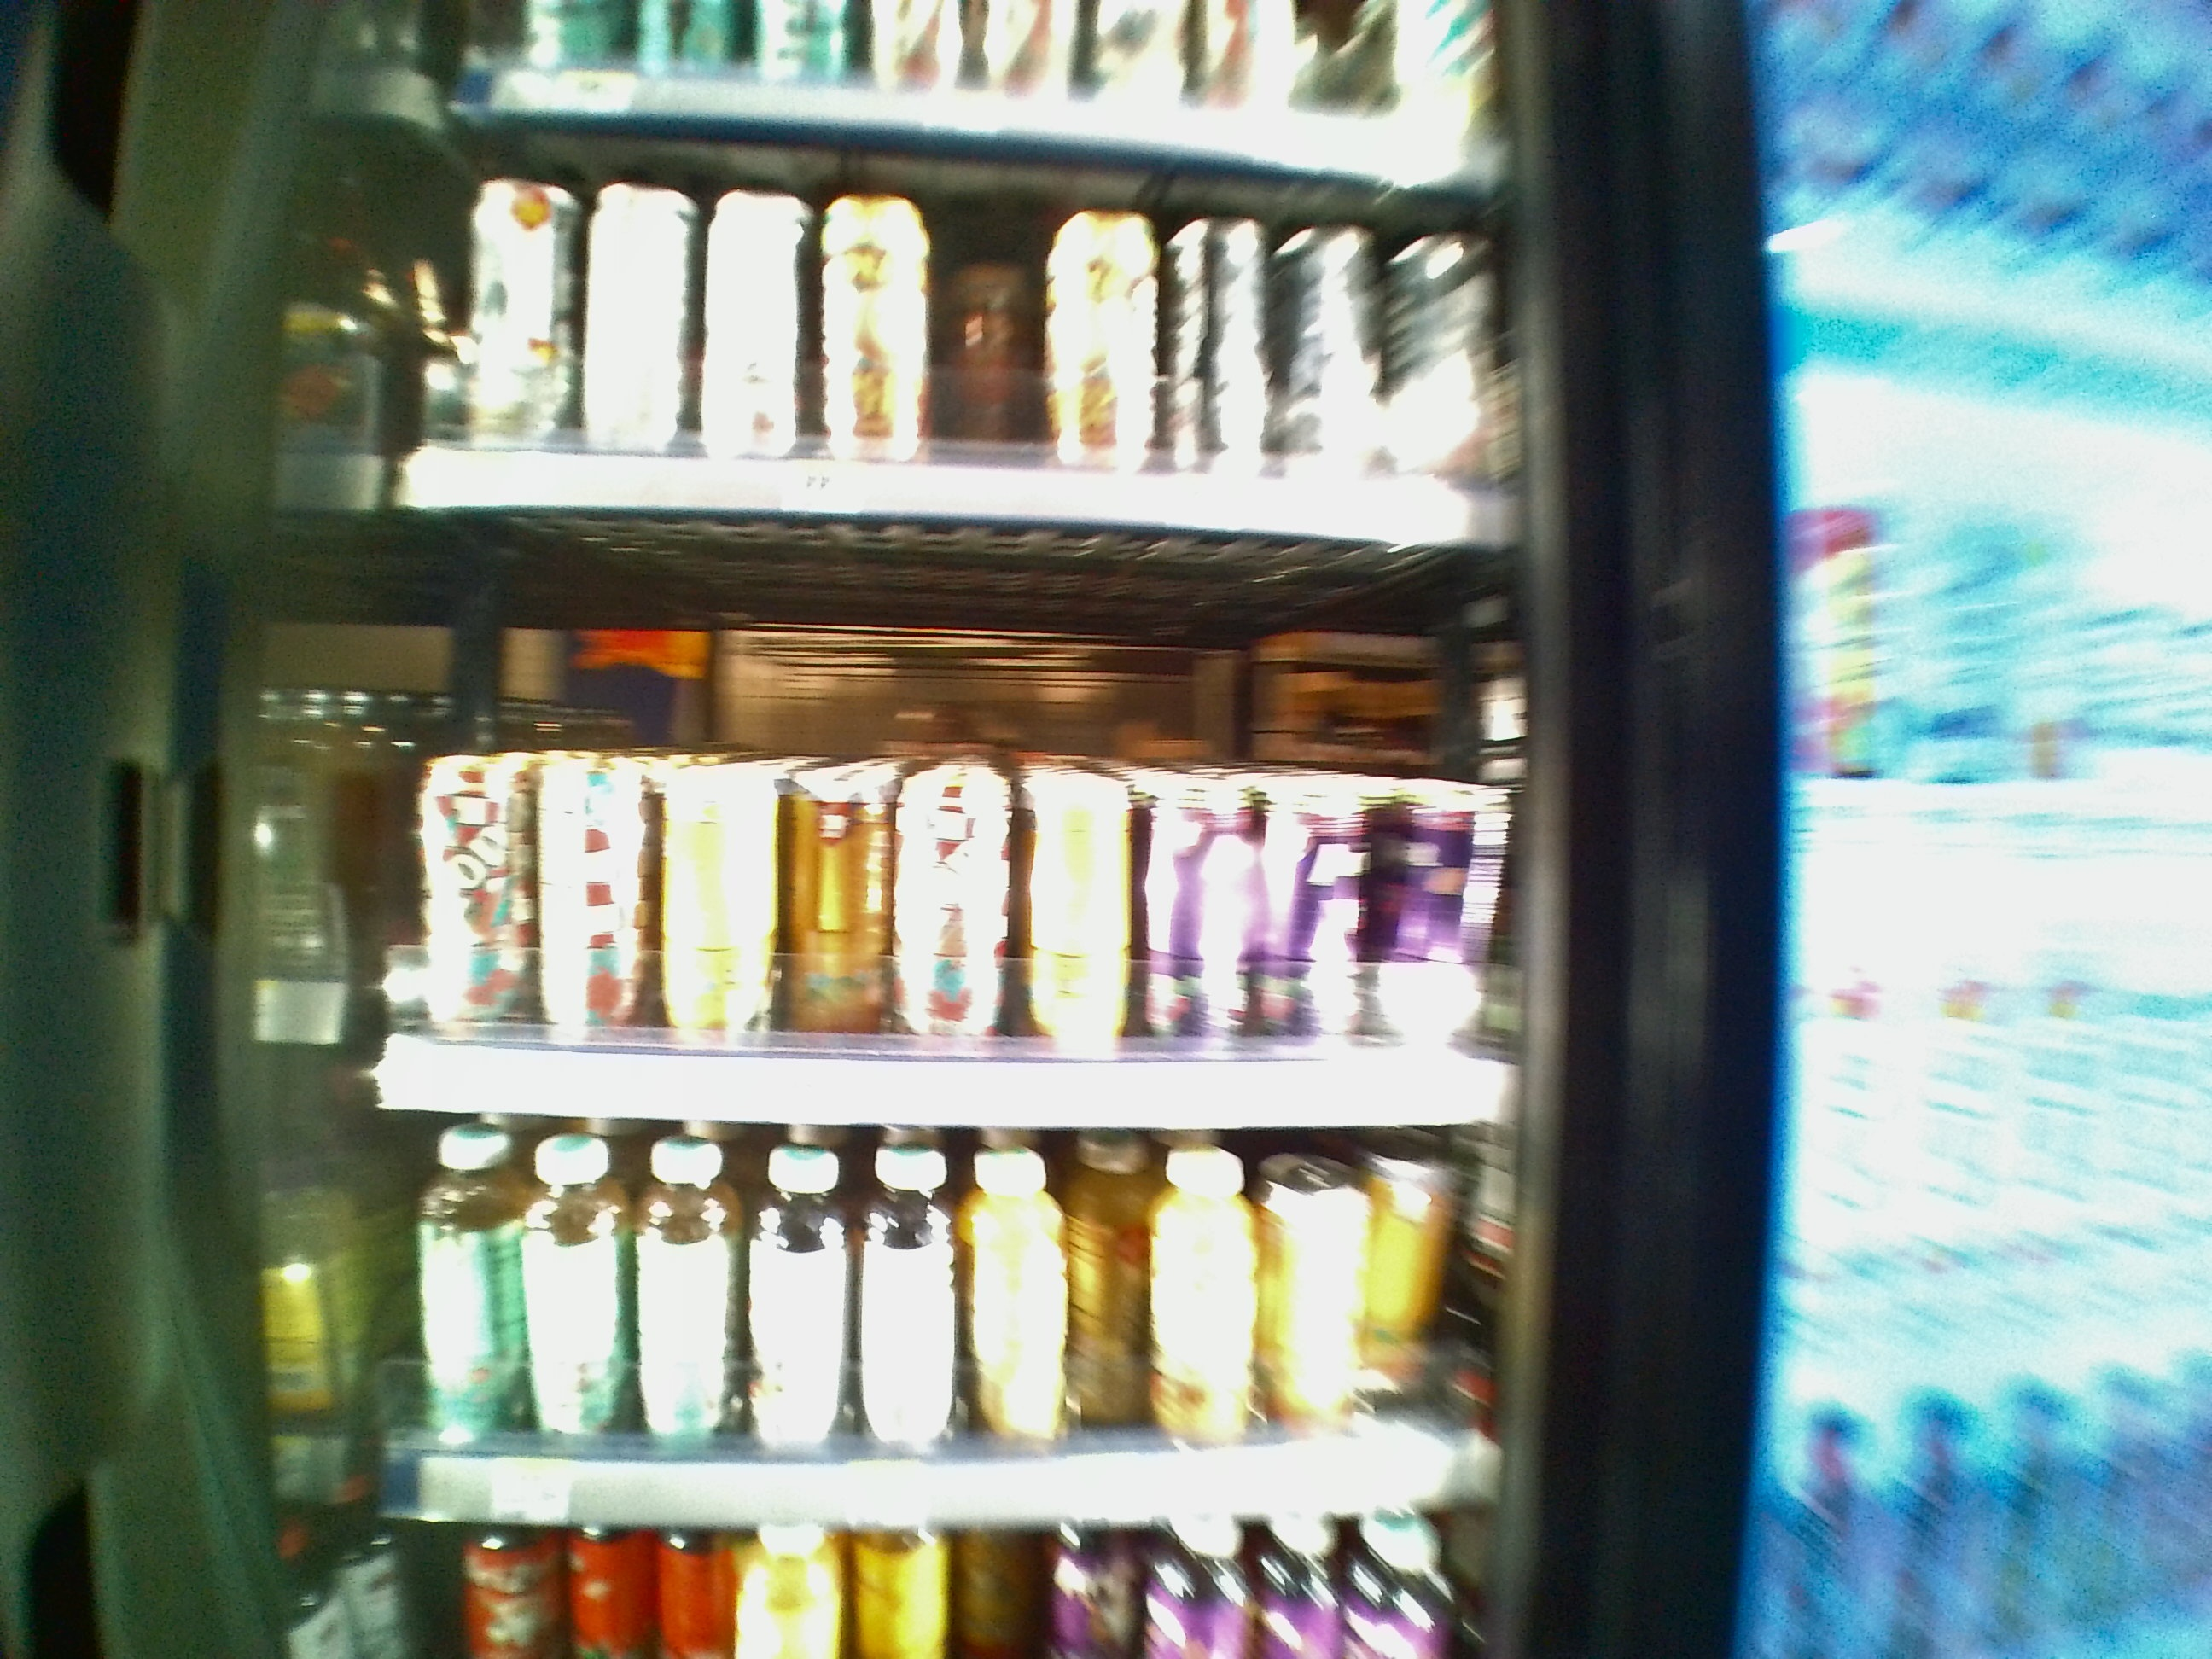shelf: (380, 558, 1515, 1115), (395, 124, 1510, 540), (361, 1133, 1508, 1521)
